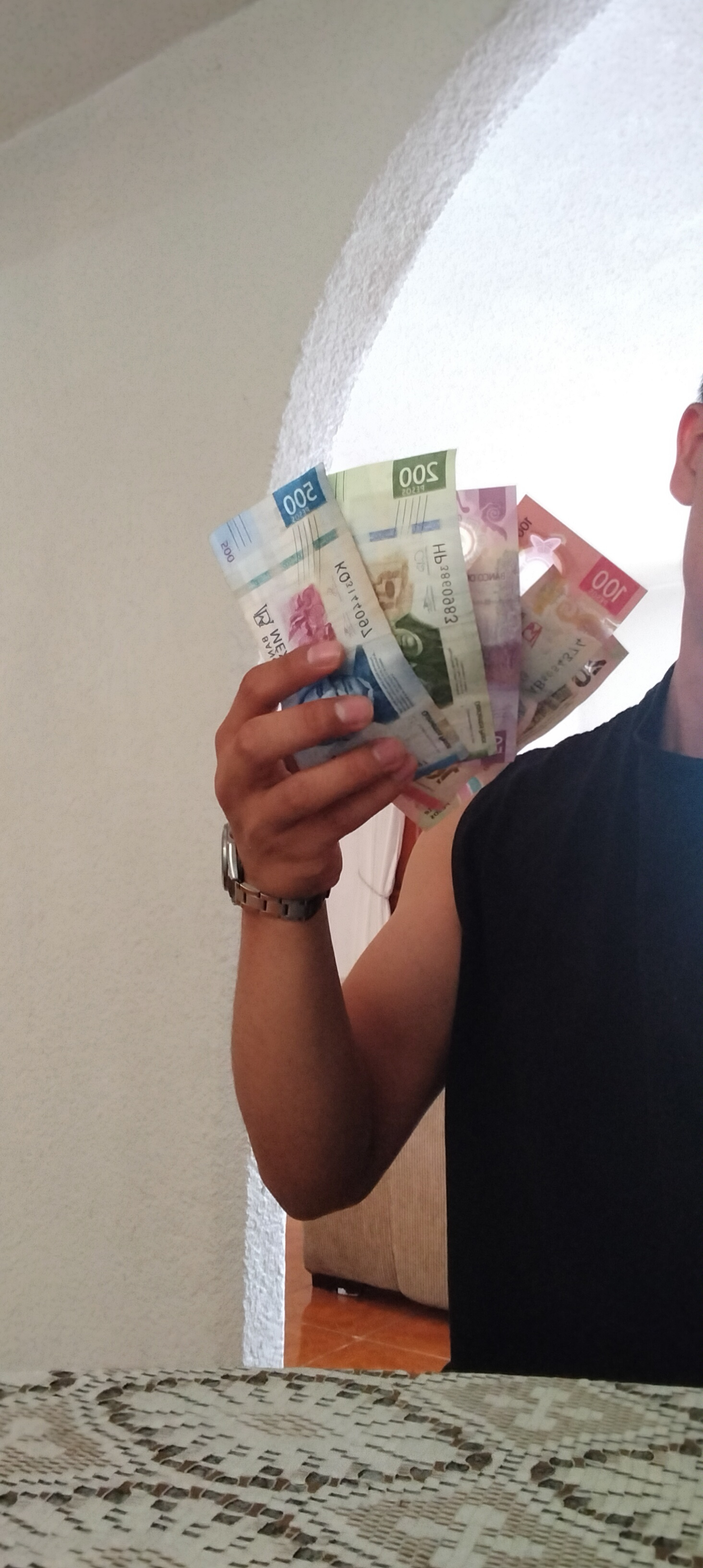billetes: (154, 430, 661, 831)
